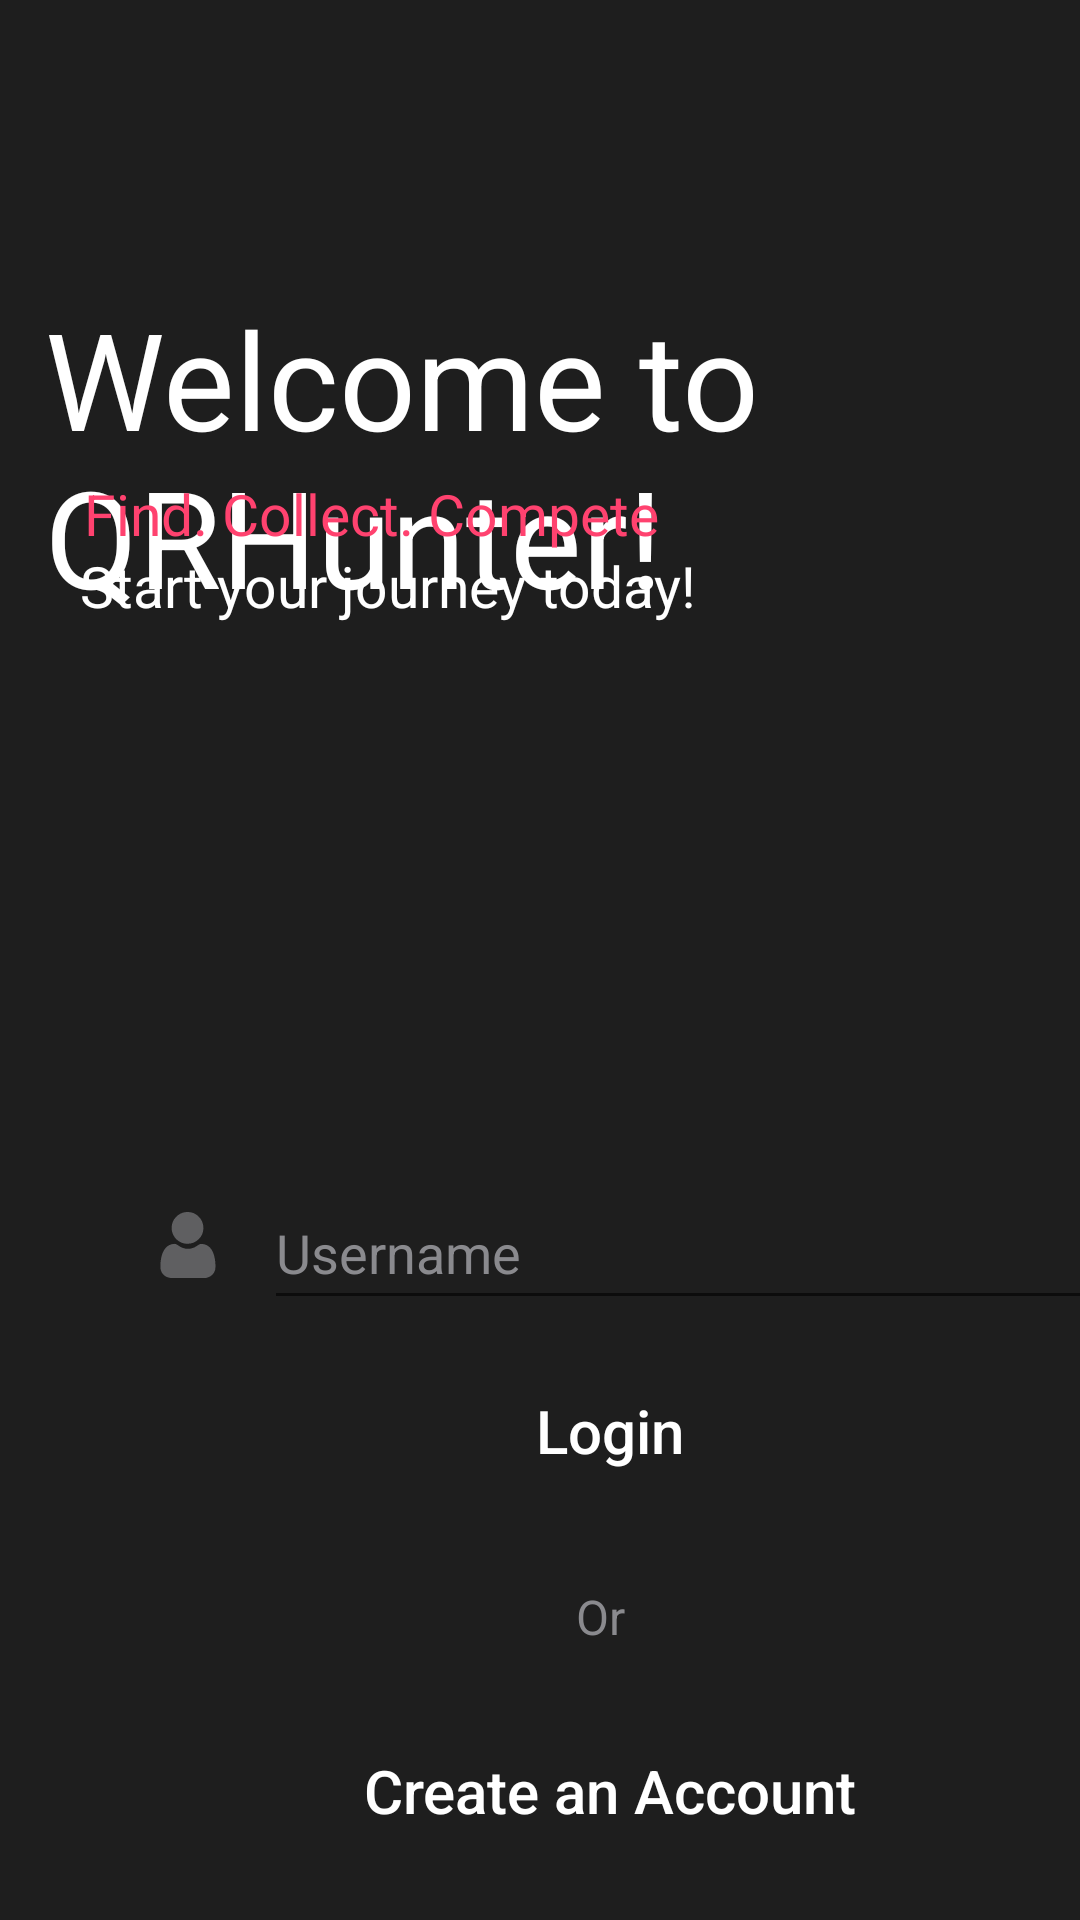

Where icons sit on this 1080px×1920px app screen, as [x1=x1, y1=y1, x2=x2, y2=y2]:
icon of profile: [x1=160, y1=1212, x2=216, y2=1278]
